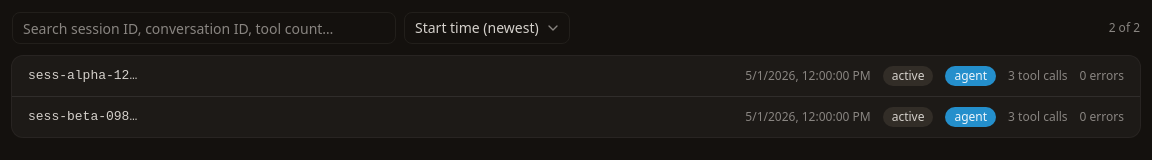
Scenario: SessionsTab: search debounce › filters rows once the debounced value is applied
Check: the list is shown, box left=12, top=56, right=1140, bottom=137
Check: the button "sess-alpha" is shown, box left=12, top=56, right=1140, bottom=96
Type "beta" into the search field with placeholder "Search session ID, conversation ID, tool count…" at (204, 28), box left=12, top=12, right=396, bottom=44
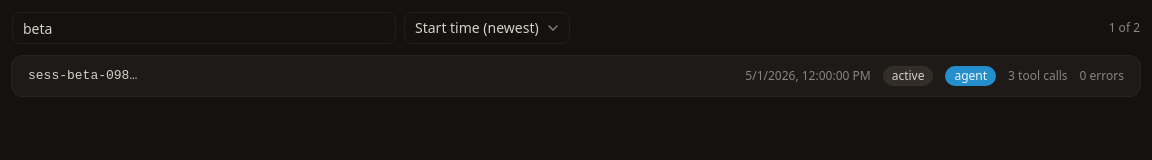
Check: the button "sess-beta" is shown, box left=12, top=56, right=1140, bottom=96
Check: the button "sess-alpha" is gone
